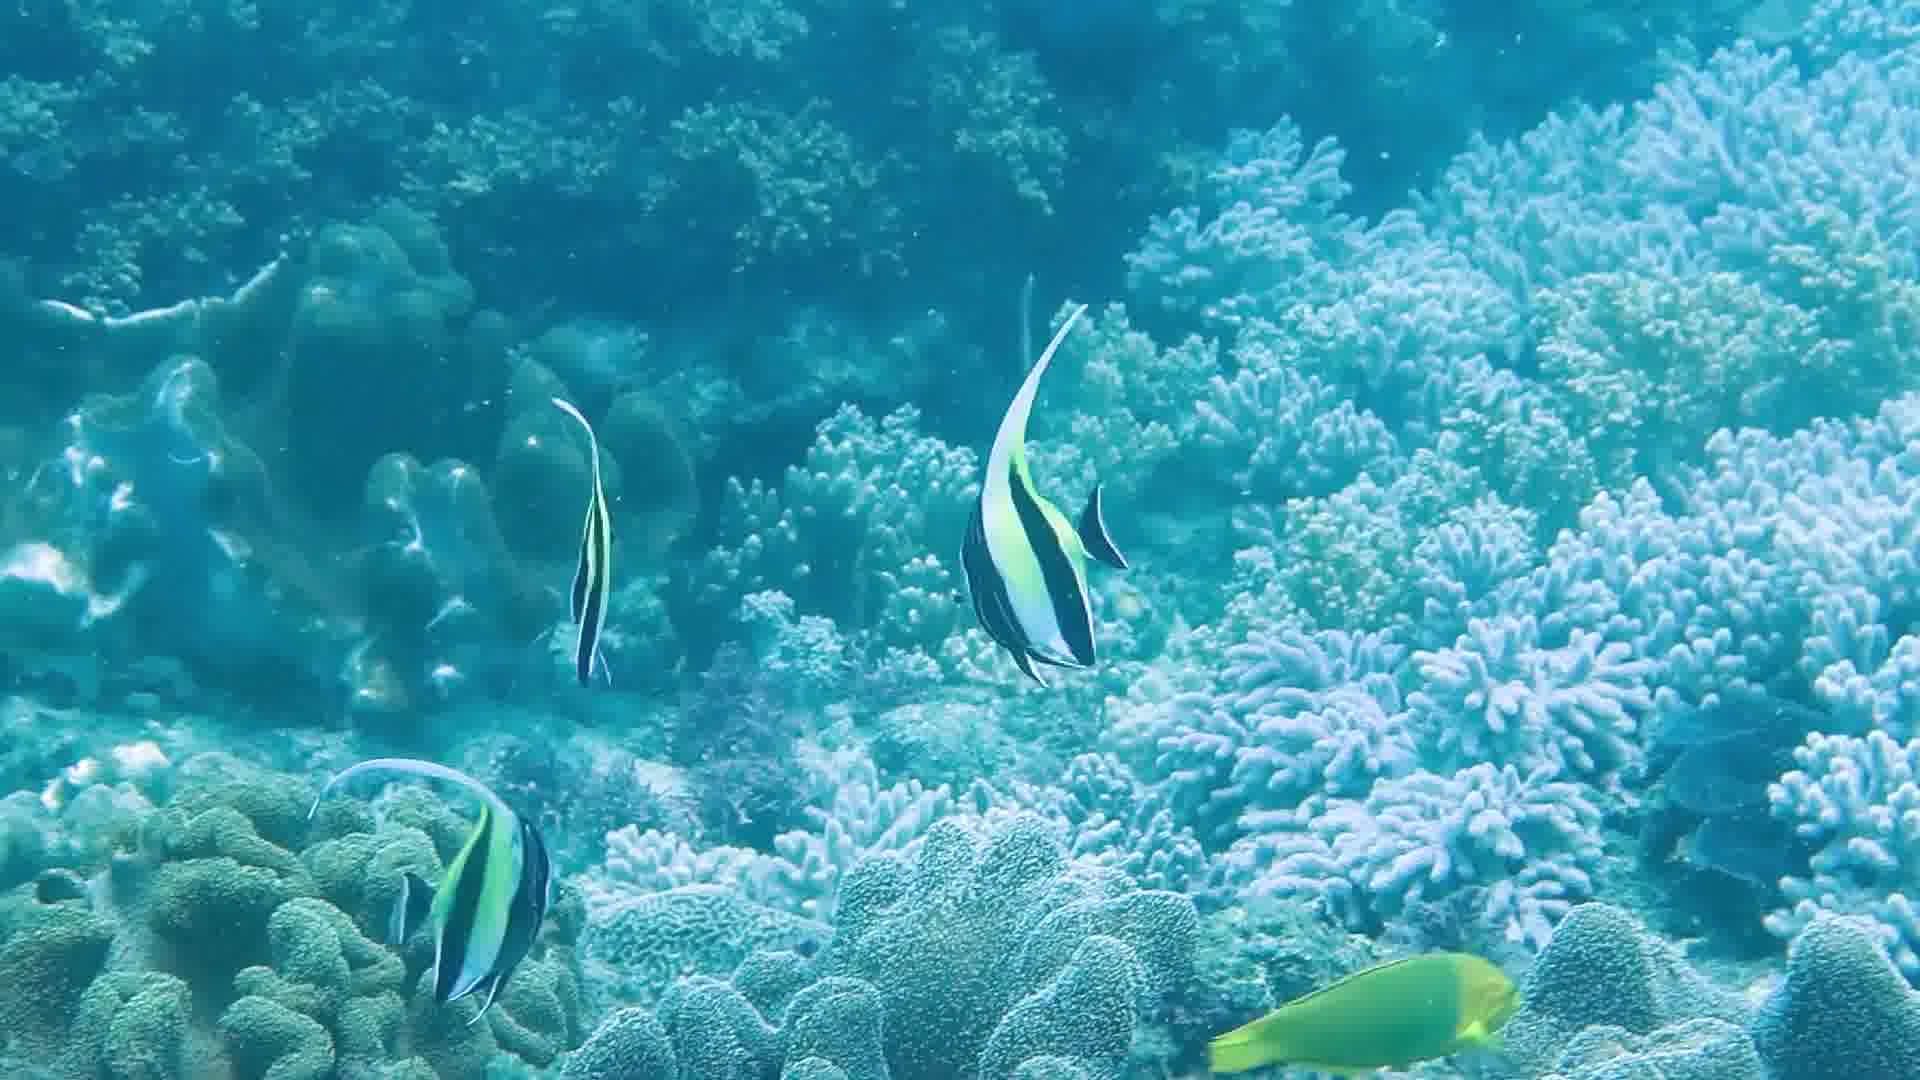Zanclus cornutus: (931, 429, 1145, 674), (363, 775, 584, 1007), (526, 459, 647, 694)
